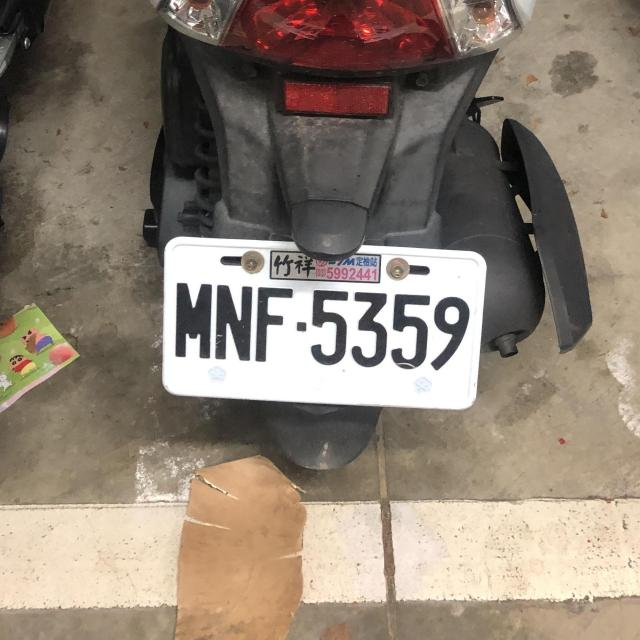W: (158, 236, 488, 413)
